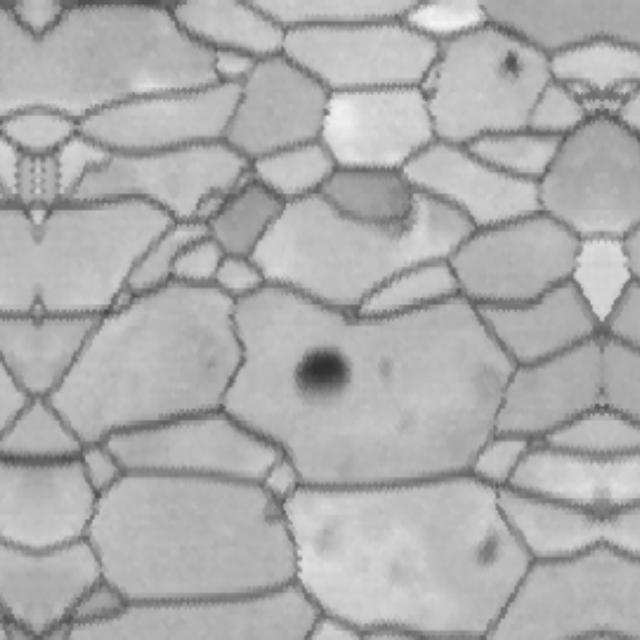good_void: (280, 343, 359, 413), (487, 44, 533, 86), (472, 524, 505, 572), (373, 347, 397, 388), (309, 102, 341, 124), (417, 83, 443, 109)
